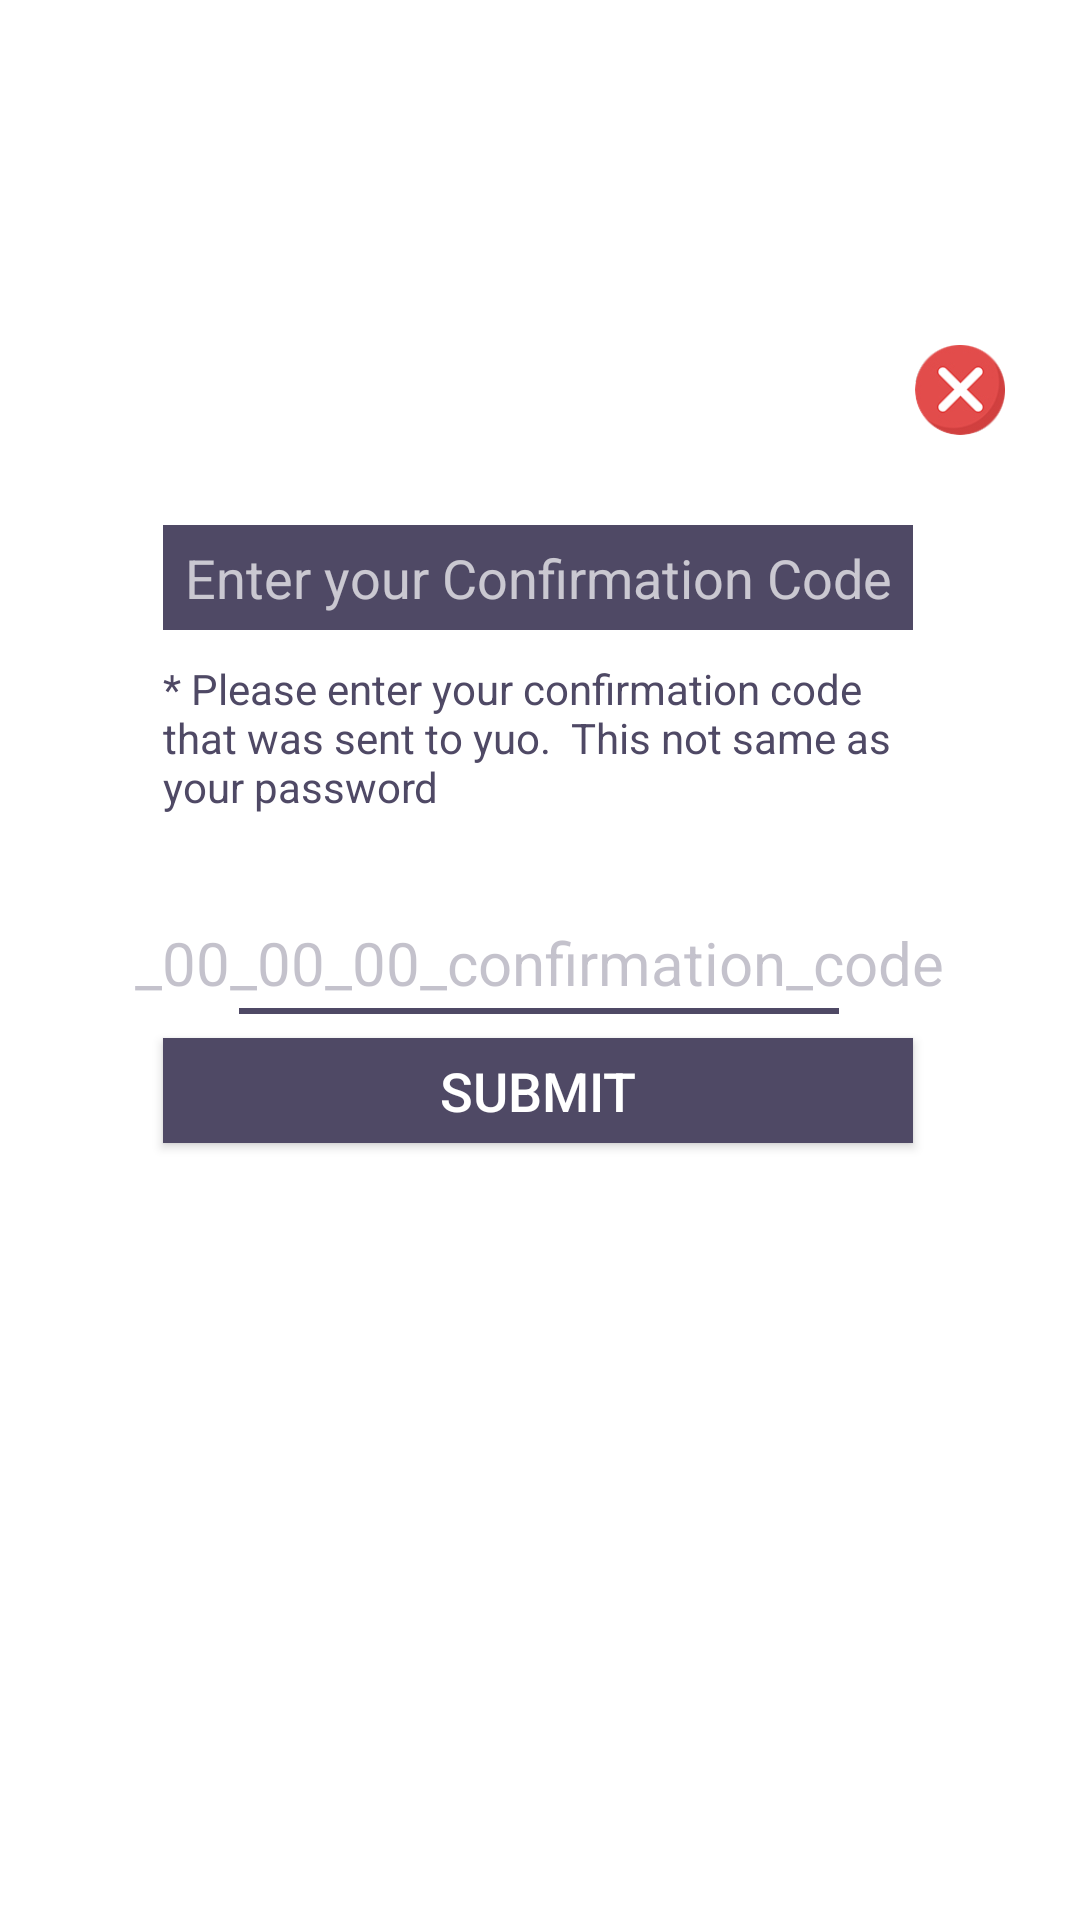

Where to tap for icons on this 1080*1920 app screen, as (x=x, y=y):
crossicon: (x=960, y=390)
